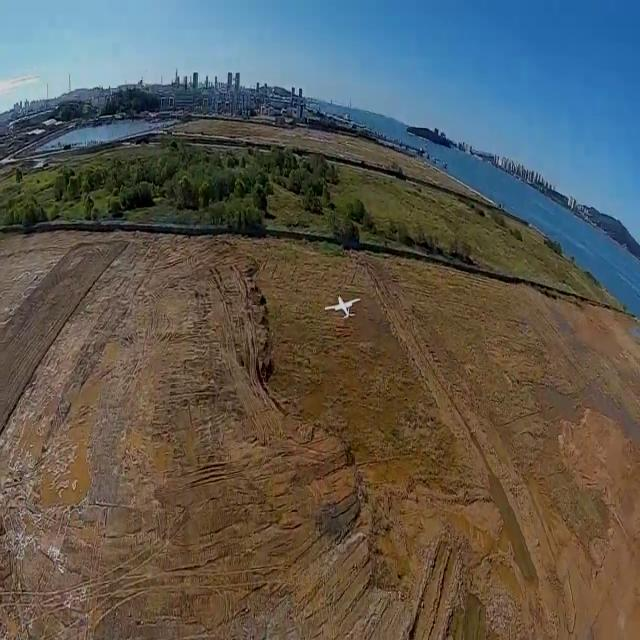iha: (324, 294, 363, 321)
